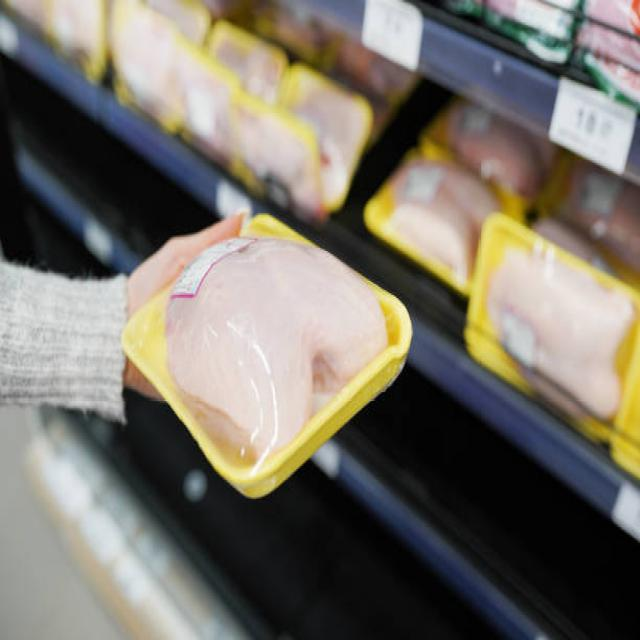article: (123, 232, 410, 496)
hands: (128, 212, 246, 315), (123, 359, 159, 397)
